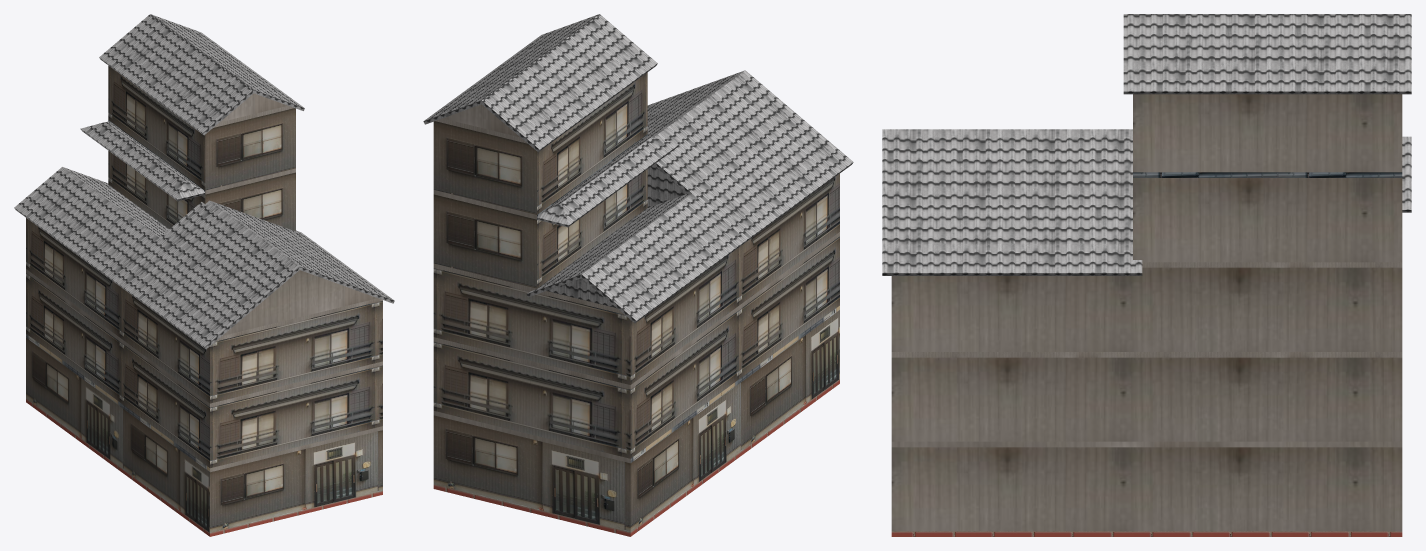
File: map-grey_japanease_apartment.glb
3 renders of one model, left to right at view 1: azimuth 30°, elevation 25°; view 2: azimuth 150°, elevation 25°; view 3: azimuth 270°, elevation 25°, orthographic. The views are drawn at different scales.
Parts seen in each view (by area): view 1: Roof Side_17wYFYknTBi1aIjH2N7UvQ_{71e76449-dc67-4085-b746-1e, Wall_gmgo53V1T5eGAmXSallFLg_{65067079-f018-4183-852a-dbd47be, Wall_LySDuAx9R7iAijdnzNr5eA_{59ec9cca-e163-4223-867a-e31f946, Wall_GD07XLtoTe6V2E8QAXgjww_{59ec9cca-e163-4223-867a-e31f946, Wall_fVKmXW6hRoGdCFONdOwMNg_{65067079-f018-4183-852a-dbd47be, Wall_-K86tR3KQVOfq9Y7P5vEgg_{59ec9cca-e163-4223-867a-e31f946, Wall_ca0npXAVTGq2mO4eCMuq-w_{59ec9cca-e163-4223-867a-e31f946, Roof Side_uF5S-OjYSWeJD_-AudowKQ_{71e76449-dc67-4085-b746-1e, Roof Side_uvbVwiZLSTyheMDccqOeuQ_{71e76449-dc67-4085-b746-1e, Wall_XVEOH56LQju5m5VHdNNEfw_{65067079-f018-4183-852a-dbd47be, Wall_ZocFLFbDSZuBH89QR9HPRA_{59ec9cca-e163-4223-867a-e31f946, Roof Gable_SjAiAqoMR8y1LilB62WK_w_{7df558df-75c8-4d5f-9ee4-d (+13 smaller); view 2: Roof Side_17wYFYknTBi1aIjH2N7UvQ_{71e76449-dc67-4085-b746-1e, Wall_LySDuAx9R7iAijdnzNr5eA_{59ec9cca-e163-4223-867a-e31f946, Wall_gmgo53V1T5eGAmXSallFLg_{65067079-f018-4183-852a-dbd47be, Wall_nx58Hr7-QfeRzO-wWBFylw_{65067079-f018-4183-852a-dbd47be, Wall_zxEjsxixRJqkS2rpd9W_kQ_{59ec9cca-e163-4223-867a-e31f946, Wall_suQQx9-sTY-_-9QLkc1zWw_{59ec9cca-e163-4223-867a-e31f946, Wall_ca0npXAVTGq2mO4eCMuq-w_{59ec9cca-e163-4223-867a-e31f946, Roof Side_uF5S-OjYSWeJD_-AudowKQ_{71e76449-dc67-4085-b746-1e, Roof Side_uvbVwiZLSTyheMDccqOeuQ_{71e76449-dc67-4085-b746-1e, Wall_qAOcd7ZpTe6L4XVK-5xpyw_{65067079-f018-4183-852a-dbd47be, Wall_-EpxMAQYSxqaOm1CPpMHDw_{65067079-f018-4183-852a-dbd47be, Wall_ZocFLFbDSZuBH89QR9HPRA_{59ec9cca-e163-4223-867a-e31f946 (+15 smaller); view 3: Wall_trcFM74OTUqj3IDFRPS23w_{7df558df-75c8-4d5f-9ee4-d070632, Wall_mXFalURdQAqWxNm51hCwmQ_{7df558df-75c8-4d5f-9ee4-d070632, Wall_-EPaefndSlODQct_JFThpg_{7df558df-75c8-4d5f-9ee4-d070632, Roof Side_pUXZKX7zRvWB3-QCYd0kTg_{71e76449-dc67-4085-b746-1e, Roof Side_9U4Xh7jgR_--oYds8m22qQ_{71e76449-dc67-4085-b746-1e, Wall_T-aD6APfS8KML511LfoGdg_{7df558df-75c8-4d5f-9ee4-d070632, Wall_8FxCjSZ8Q9y-xA-Kzr5Efw_{7df558df-75c8-4d5f-9ee4-d070632, Slab_hkC-vGPERL-Pd6RMDDM0Tw_{7df558df-75c8-4d5f-9ee4-d070632, Slab_IqleQU--TOux9LpgxHjbEQ_{7aab4d66-75f4-6743-bfdb-e7d7289, Slab_VGwhFHWkSKqGBXG8zLBoJA_{7df558df-75c8-4d5f-9ee4-d070632, Slab_4HkppyyESaGsNW5VxfJlKQ_{de015272-b6d1-4696-8f8f-8c0af51, Slab_8AoHeyqSSxSdaYGM79xLcg_{7df558df-75c8-4d5f-9ee4-d070632 (+1 smaller).
Part boxes in pixels (box(x1,y1,x2,y2)): Roof Side_17wYFYknTBi1aIjH2N7UvQ_{71e76449-dc67-4085-b746-1e: box(118, 200, 299, 349); Wall_gmgo53V1T5eGAmXSallFLg_{65067079-f018-4183-852a-dbd47be: box(26, 338, 209, 532); Wall_LySDuAx9R7iAijdnzNr5eA_{59ec9cca-e163-4223-867a-e31f946: box(26, 273, 209, 467); Wall_GD07XLtoTe6V2E8QAXgjww_{59ec9cca-e163-4223-867a-e31f946: box(210, 365, 382, 468); Wall_fVKmXW6hRoGdCFONdOwMNg_{65067079-f018-4183-852a-dbd47be: box(210, 430, 382, 532); Wall_-K86tR3KQVOfq9Y7P5vEgg_{59ec9cca-e163-4223-867a-e31f946: box(210, 301, 382, 403); Wall_ca0npXAVTGq2mO4eCMuq-w_{59ec9cca-e163-4223-867a-e31f946: box(26, 218, 209, 403); Roof Side_uF5S-OjYSWeJD_-AudowKQ_{71e76449-dc67-4085-b746-1e: box(99, 14, 253, 135); Roof Side_uvbVwiZLSTyheMDccqOeuQ_{71e76449-dc67-4085-b746-1e: box(14, 167, 165, 285); Wall_XVEOH56LQju5m5VHdNNEfw_{65067079-f018-4183-852a-dbd47be: box(205, 108, 295, 190); Wall_ZocFLFbDSZuBH89QR9HPRA_{59ec9cca-e163-4223-867a-e31f946: box(108, 65, 205, 190); Roof Gable_SjAiAqoMR8y1LilB62WK_w_{7df558df-75c8-4d5f-9ee4-d: box(222, 270, 377, 335); Roof Side_17wYFYknTBi1aIjH2N7UvQ_{71e76449-dc67-4085-b746-1e: box(654, 70, 853, 239); Wall_LySDuAx9R7iAijdnzNr5eA_{59ec9cca-e163-4223-867a-e31f946: box(630, 236, 839, 458); Wall_gmgo53V1T5eGAmXSallFLg_{65067079-f018-4183-852a-dbd47be: box(630, 310, 839, 531); Wall_nx58Hr7-QfeRzO-wWBFylw_{65067079-f018-4183-852a-dbd47be: box(433, 415, 630, 532); Wall_zxEjsxixRJqkS2rpd9W_kQ_{59ec9cca-e163-4223-867a-e31f946: box(433, 342, 630, 458); Wall_suQQx9-sTY-_-9QLkc1zWw_{59ec9cca-e163-4223-867a-e31f946: box(433, 268, 630, 384); Wall_ca0npXAVTGq2mO4eCMuq-w_{59ec9cca-e163-4223-867a-e31f946: box(630, 174, 839, 384); Roof Side_uF5S-OjYSWeJD_-AudowKQ_{71e76449-dc67-4085-b746-1e: box(481, 14, 657, 152); Roof Side_uvbVwiZLSTyheMDccqOeuQ_{71e76449-dc67-4085-b746-1e: box(581, 194, 753, 323); Wall_qAOcd7ZpTe6L4XVK-5xpyw_{65067079-f018-4183-852a-dbd47be: box(433, 194, 536, 288); Wall_-EpxMAQYSxqaOm1CPpMHDw_{65067079-f018-4183-852a-dbd47be: box(433, 121, 536, 214); Wall_ZocFLFbDSZuBH89QR9HPRA_{59ec9cca-e163-4223-867a-e31f946: box(537, 72, 647, 214); Wall_trcFM74OTUqj3IDFRPS23w_{7df558df-75c8-4d5f-9ee4-d070632: box(891, 447, 1402, 531); Wall_mXFalURdQAqWxNm51hCwmQ_{7df558df-75c8-4d5f-9ee4-d070632: box(891, 357, 1402, 441); Wall_-EPaefndSlODQct_JFThpg_{7df558df-75c8-4d5f-9ee4-d070632: box(891, 267, 1402, 351); Roof Side_pUXZKX7zRvWB3-QCYd0kTg_{71e76449-dc67-4085-b746-1e: box(882, 129, 1142, 275); Roof Side_9U4Xh7jgR_--oYds8m22qQ_{71e76449-dc67-4085-b746-1e: box(1123, 14, 1411, 94); Wall_T-aD6APfS8KML511LfoGdg_{7df558df-75c8-4d5f-9ee4-d070632: box(1133, 178, 1402, 262); Wall_8FxCjSZ8Q9y-xA-Kzr5Efw_{7df558df-75c8-4d5f-9ee4-d070632: box(1133, 94, 1402, 172); Slab_hkC-vGPERL-Pd6RMDDM0Tw_{7df558df-75c8-4d5f-9ee4-d070632: box(891, 441, 1402, 447); Slab_IqleQU--TOux9LpgxHjbEQ_{7aab4d66-75f4-6743-bfdb-e7d7289: box(891, 531, 1402, 536); Slab_VGwhFHWkSKqGBXG8zLBoJA_{7df558df-75c8-4d5f-9ee4-d070632: box(891, 352, 1402, 357); Slab_4HkppyyESaGsNW5VxfJlKQ_{de015272-b6d1-4696-8f8f-8c0af51: box(1133, 172, 1402, 177); Slab_8AoHeyqSSxSdaYGM79xLcg_{7df558df-75c8-4d5f-9ee4-d070632: box(1142, 262, 1402, 267).
Size of the model in its own units: 9.85 by 17.56 by 17.1.
10 materials, 7 textured.
